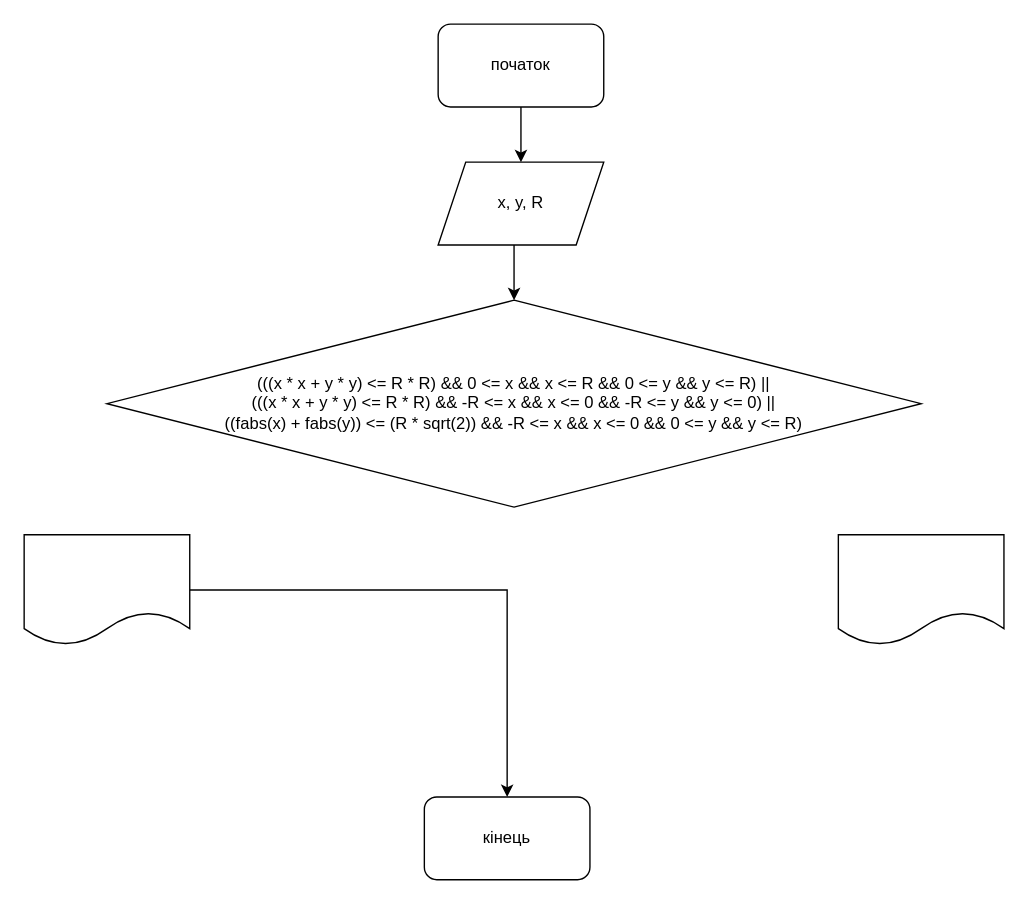
The diagram is 1028 pixels wide and 904 high, and some of its shapes have lost their labels. The centre of each missing label's shape, as x and y in pixels:
"no" belongs at [106,589].
"yes" belongs at [920,589].
